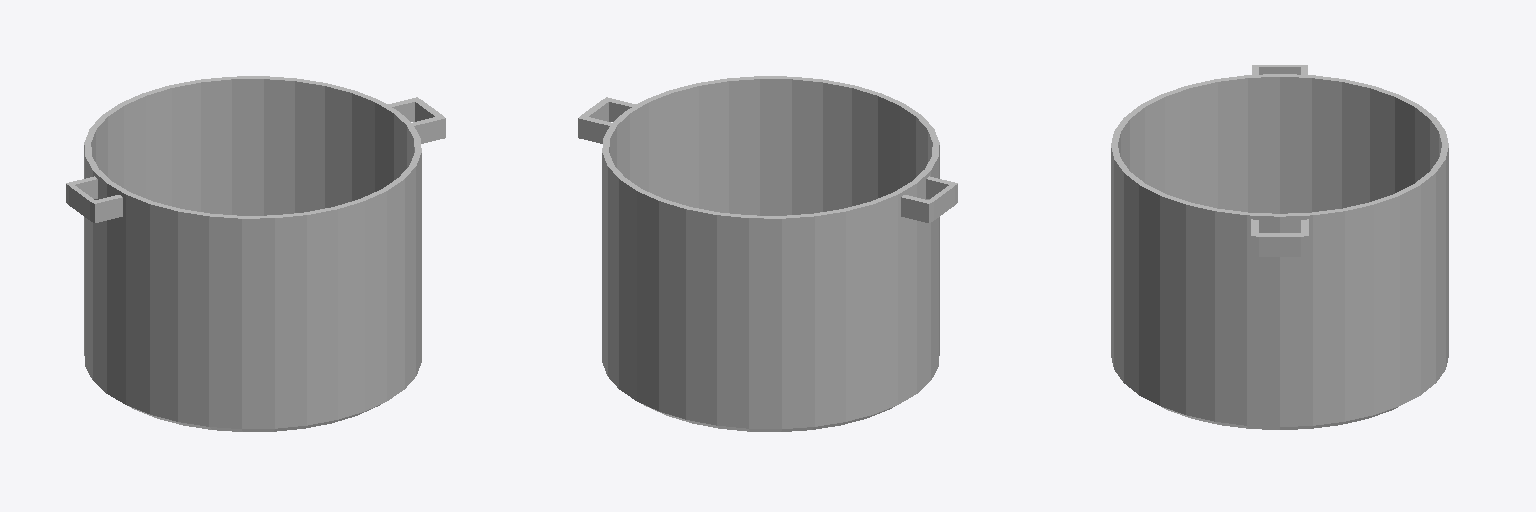
File: pot.obj
3 renders of one model, left to right at view 1: azimuth 30°, elevation 25°; view 2: azimuth 150°, elevation 25°; view 3: azimuth 270°, elevation 25°, orthographic.
Visible parts, largest first — view 1: Circle; view 2: Circle; view 3: Circle.
Boxes of the visible parts, x1=… form: Circle: x1=66, y1=76, x2=445, y2=431; Circle: x1=578, y1=76, x2=957, y2=431; Circle: x1=1111, y1=65, x2=1448, y2=429.
Bounding box in the file's own units: 4.1 × 2.43 × 3.41.